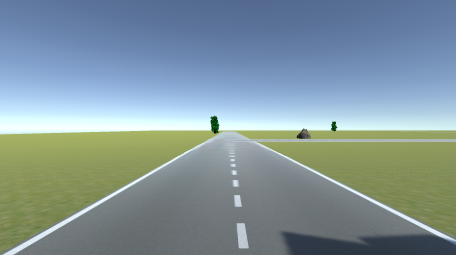rock: (296, 128, 311, 139)
tree: (210, 115, 221, 134), (330, 121, 336, 131)
